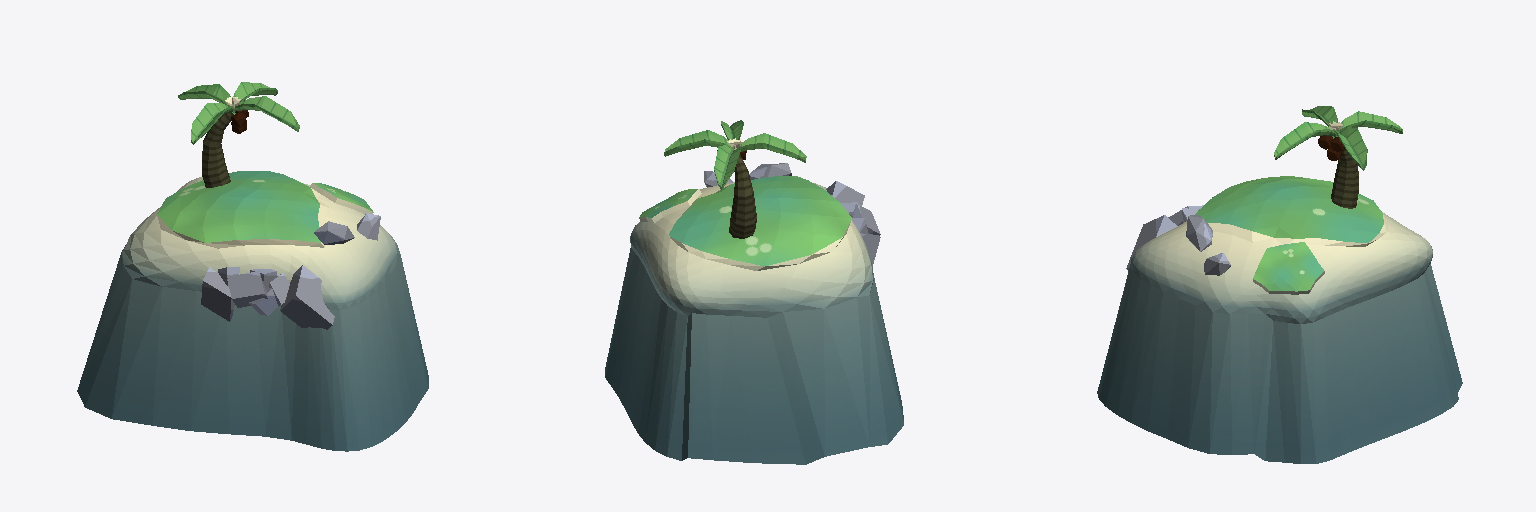
The picture shows the model from 3 angles: view 1: azimuth 30°, elevation 25°; view 2: azimuth 150°, elevation 25°; view 3: azimuth 270°, elevation 25°; orthographic projection.
Parts seen in each view (by area): view 1: Icosphere; view 2: Icosphere; view 3: Icosphere.
Boxes of the visible parts, x1=… form: Icosphere: x1=77, y1=82, x2=428, y2=451; Icosphere: x1=605, y1=120, x2=903, y2=464; Icosphere: x1=1097, y1=106, x2=1462, y2=463.
Bounding box in the file's own units: 6.67 × 6.11 × 7.25.
Materials: 1 (1 with a texture image).